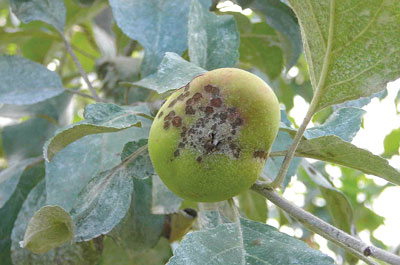defect: (149, 74, 272, 170)
